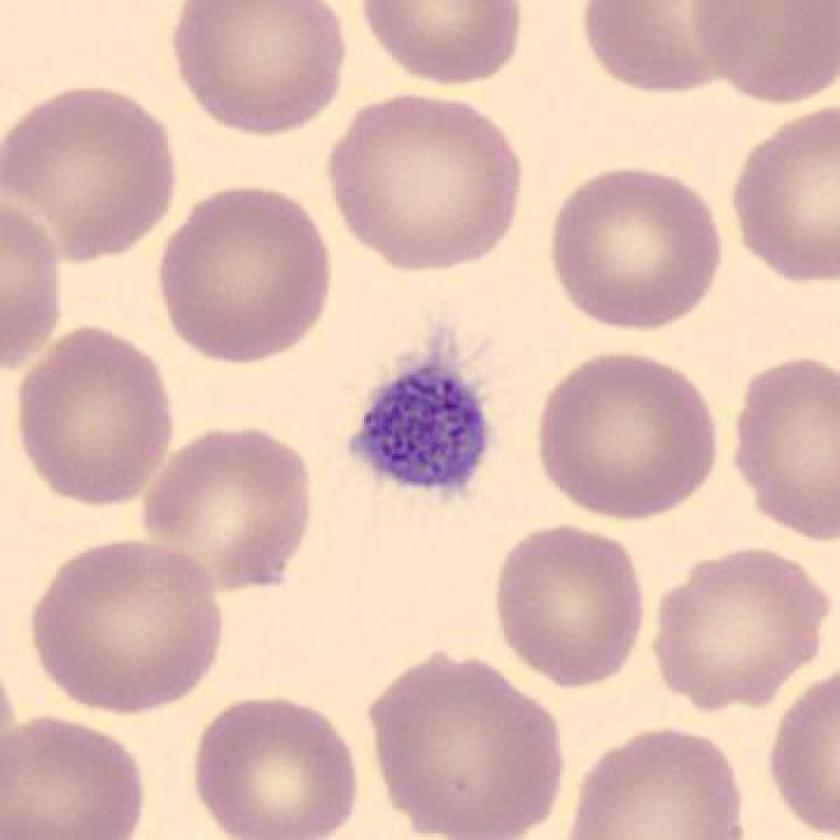platelets: (337, 351, 503, 513)
